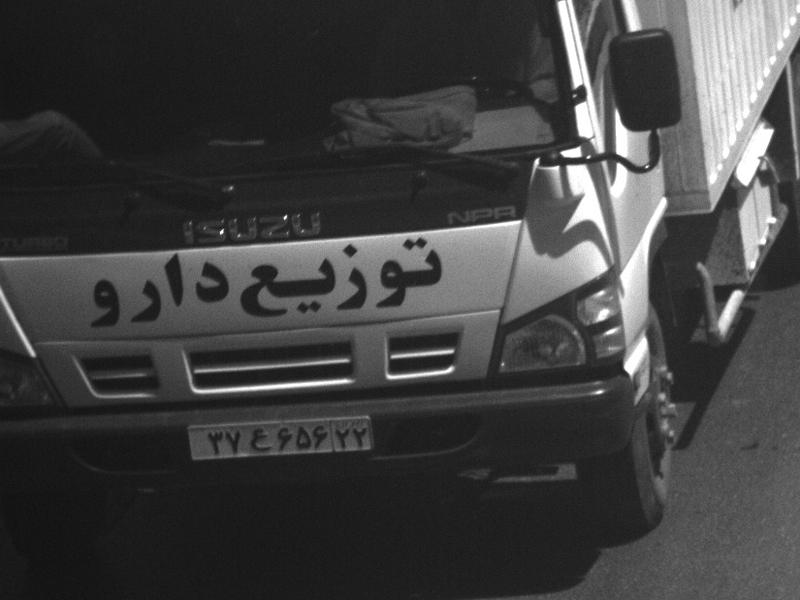Plate: (188, 420, 369, 456)
